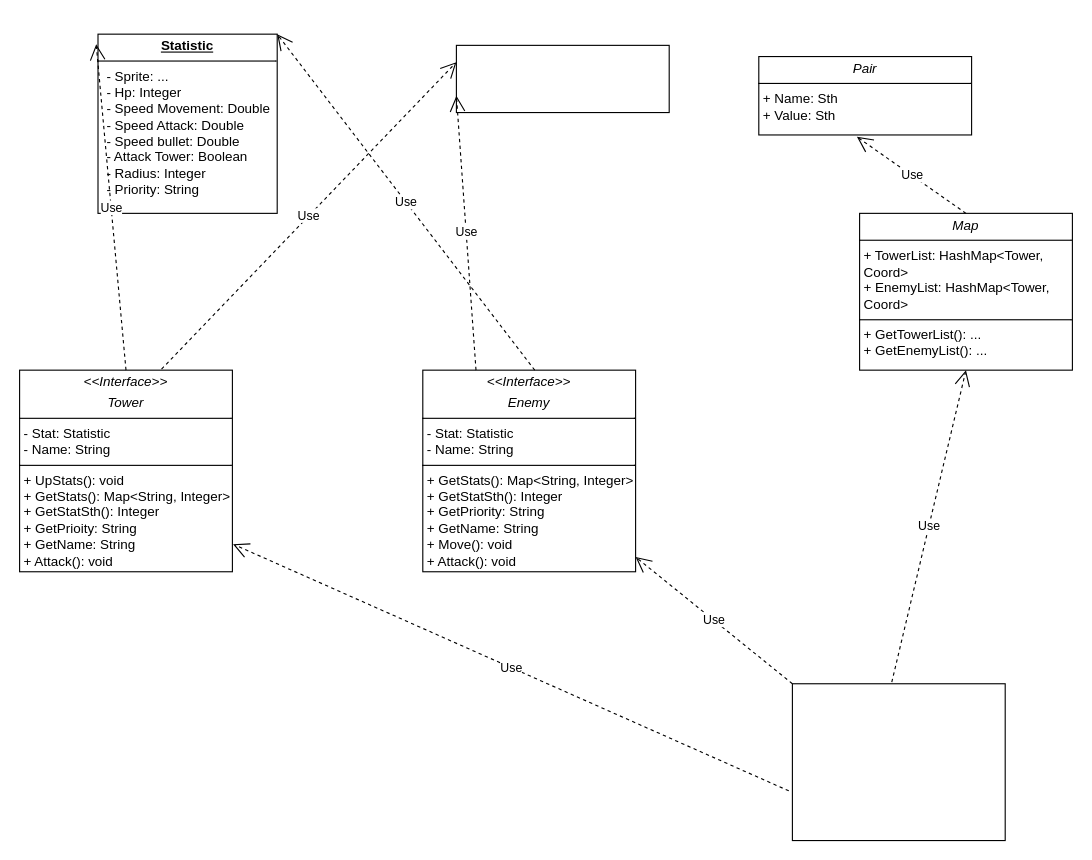
This 1092x860 diagram has some shape labels left out. The centre of each missing label's shape, as x and y in pixels:
Coord + X: Integer + Y: Integer: the point at 562,78
Render + Render(): ...: the point at 898,762
